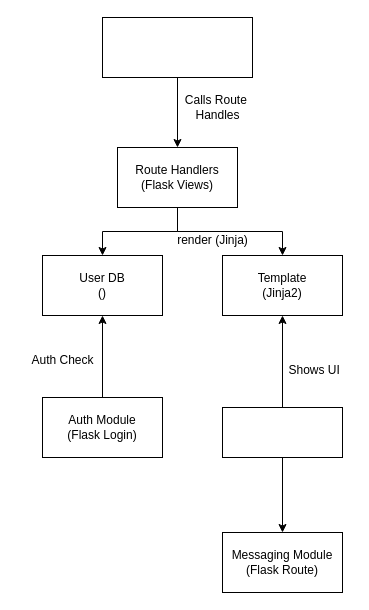
Some shapes in this 369 by 610 pixel diagram are drawn without their labels. The centre of each missing label's shape, as x and y in pixels:
"Match Engine (Pyhton)" belongs at point (282, 432).
"Web Server (Flask)" belongs at point (177, 47).
